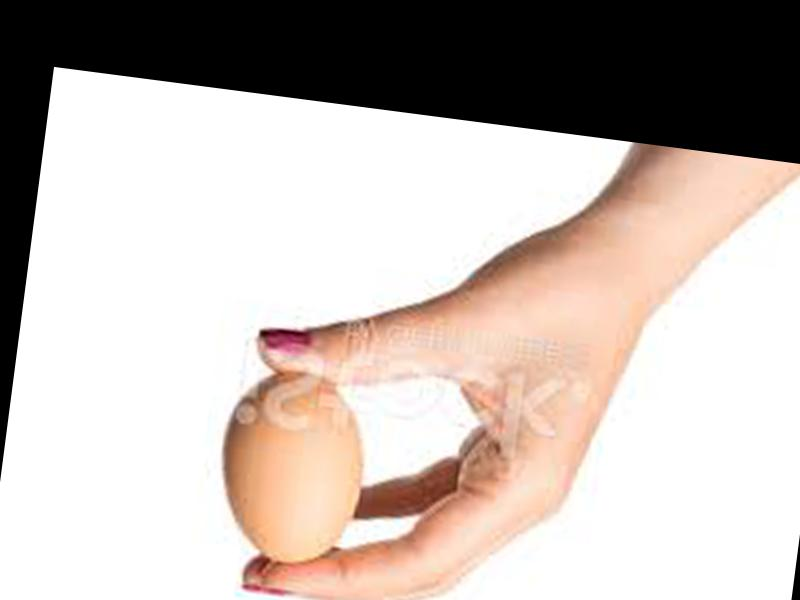Eggs: (215, 363, 371, 569)
